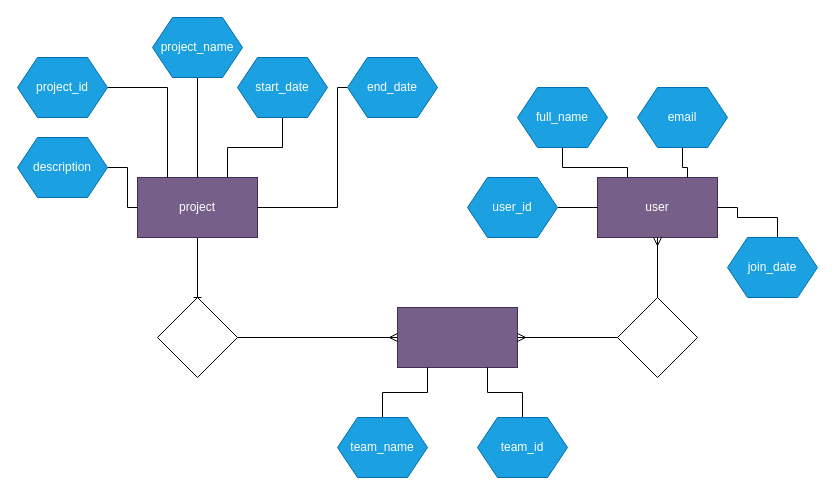
Some shapes in this 835 by 495 pixel diagram are drawn without their labels. Each missing label, with the centre of its shape:
"compone" goes at point (657, 337).
"team" goes at point (457, 337).
"tiene" goes at point (197, 337).
